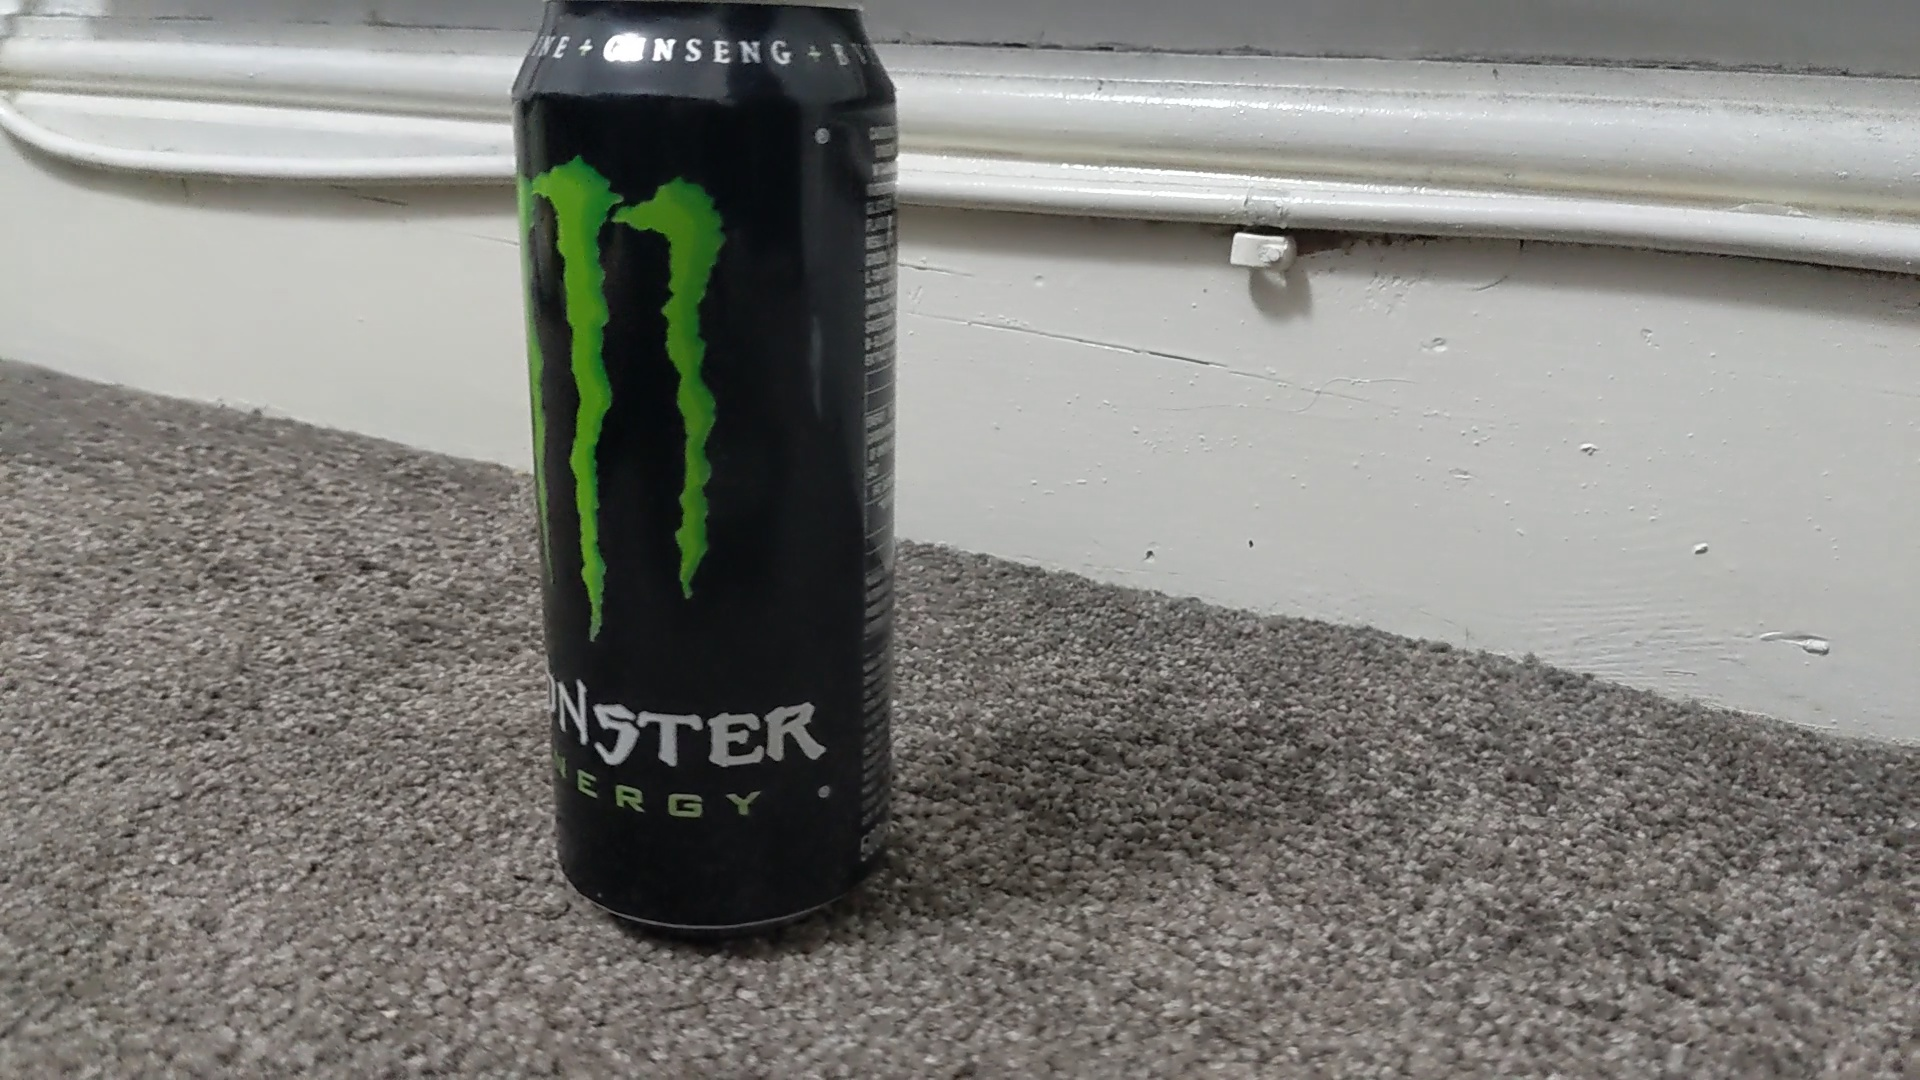monster-original: (512, 1, 897, 938)
